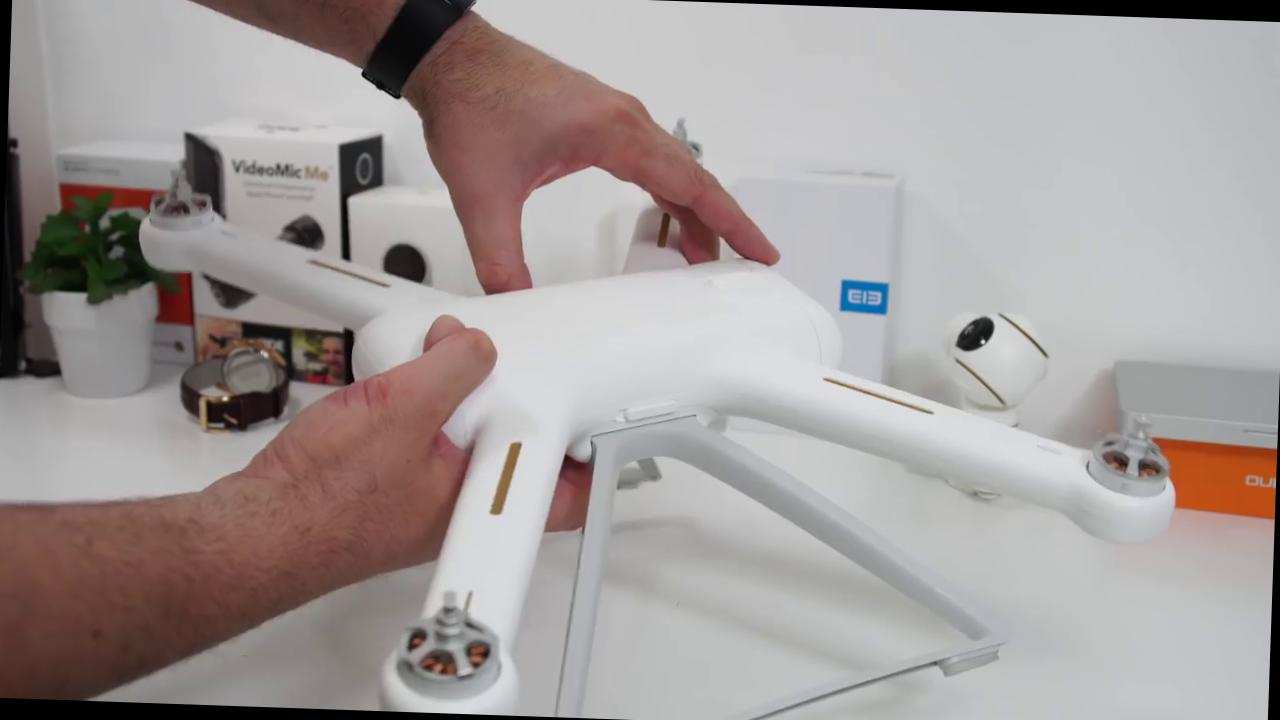drone: (106, 77, 1207, 720)
